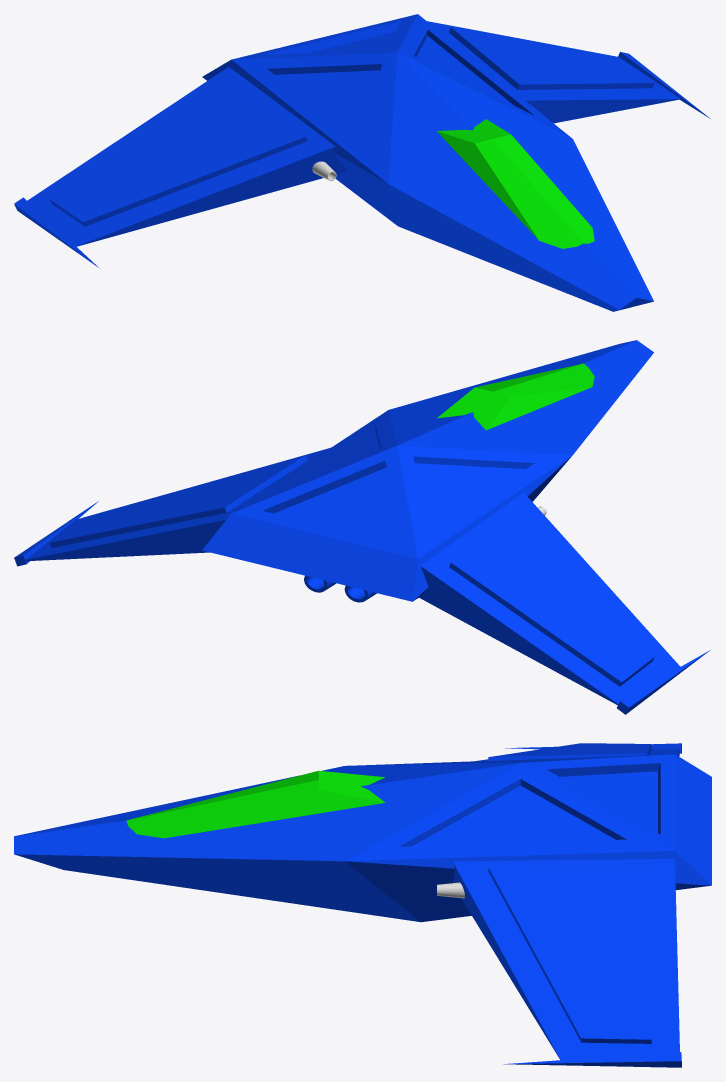
The model's file is ship.fbx.
3 views of the same model, one above another, from view 1: azimuth 30°, elevation 25°; view 2: azimuth 150°, elevation 25°; view 3: azimuth 270°, elevation 25° (orthographic). The views are drawn at different scales.
Parts seen in each view (by area): view 1: Cube.001; view 2: Cube.001; view 3: Cube.001.
Part boxes in pixels (bbox=[...]): Cube.001: bbox=[14, 14, 710, 311]; Cube.001: bbox=[14, 340, 710, 714]; Cube.001: bbox=[14, 743, 711, 1067].
Size of the model in its own units: 659 by 143 by 612.
